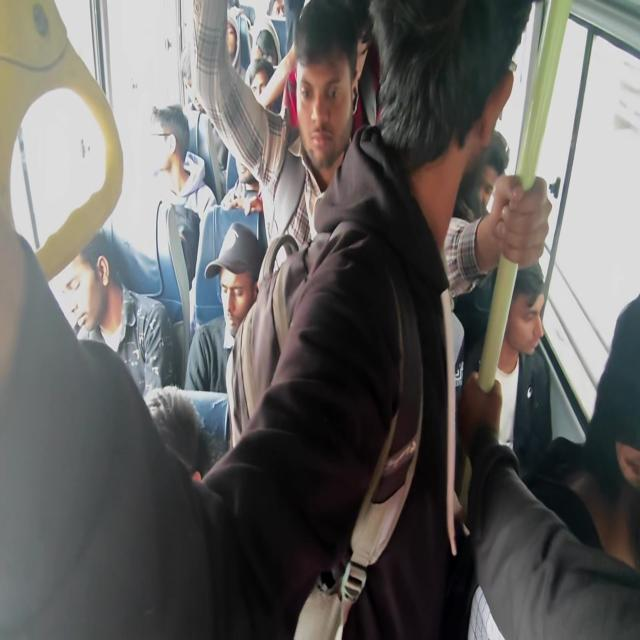person: (404, 0, 507, 261), (592, 336, 640, 530), (48, 228, 133, 337), (212, 239, 270, 359), (298, 48, 352, 162), (132, 98, 192, 197), (456, 150, 518, 226), (320, 2, 366, 89), (502, 286, 553, 360), (233, 138, 264, 202), (206, 10, 238, 71), (252, 26, 282, 66), (265, 1, 294, 34)
